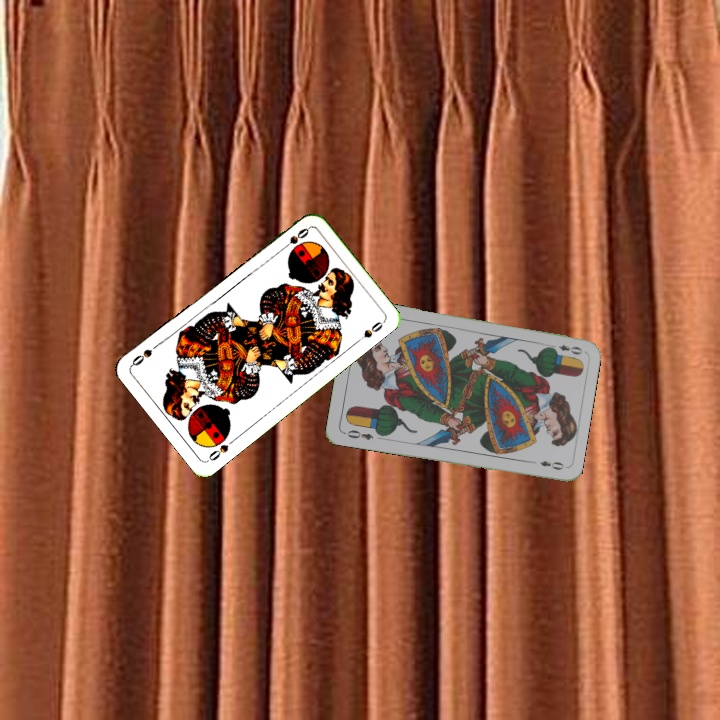EO: (545, 340, 585, 357), (340, 426, 376, 443)
SO: (277, 224, 312, 253), (204, 435, 238, 464)
